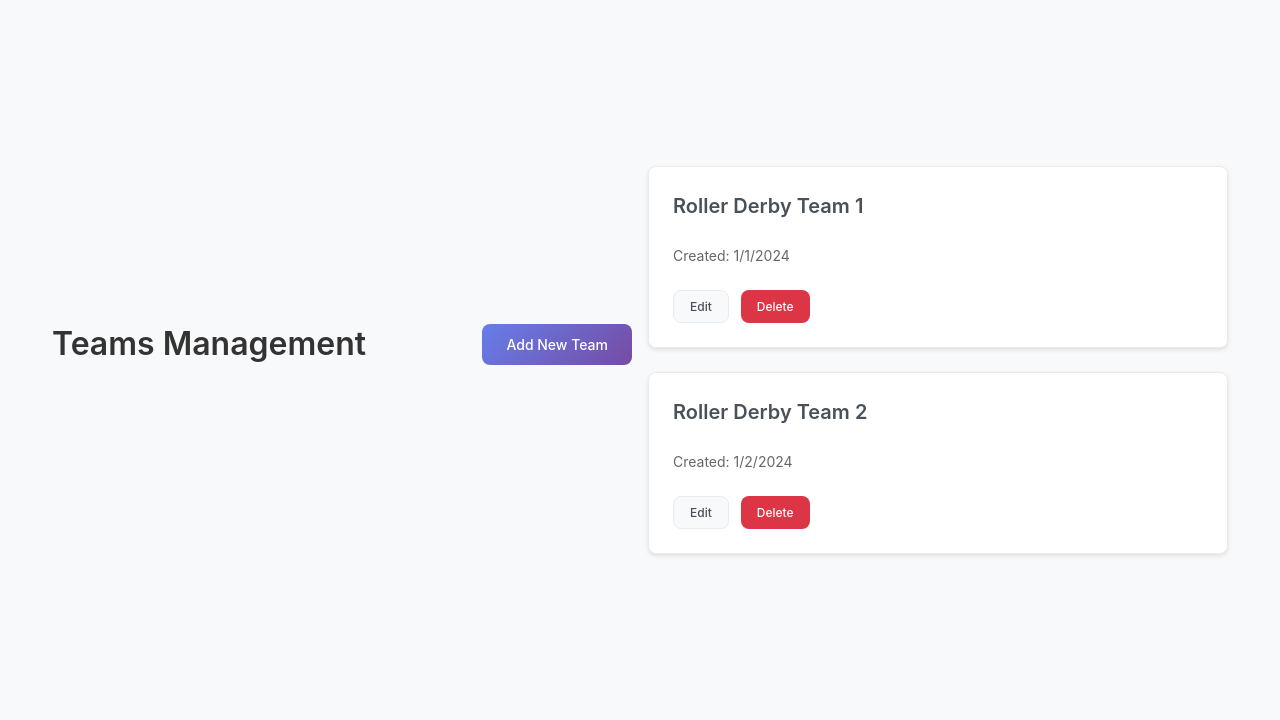
Scenario: Teams Component › shows add team form when button is clicked
What coordinates should you click on to do the following:
click the button "Add New Team"
I would click on:
 (557, 344)
Its box is [482,324,632,364].
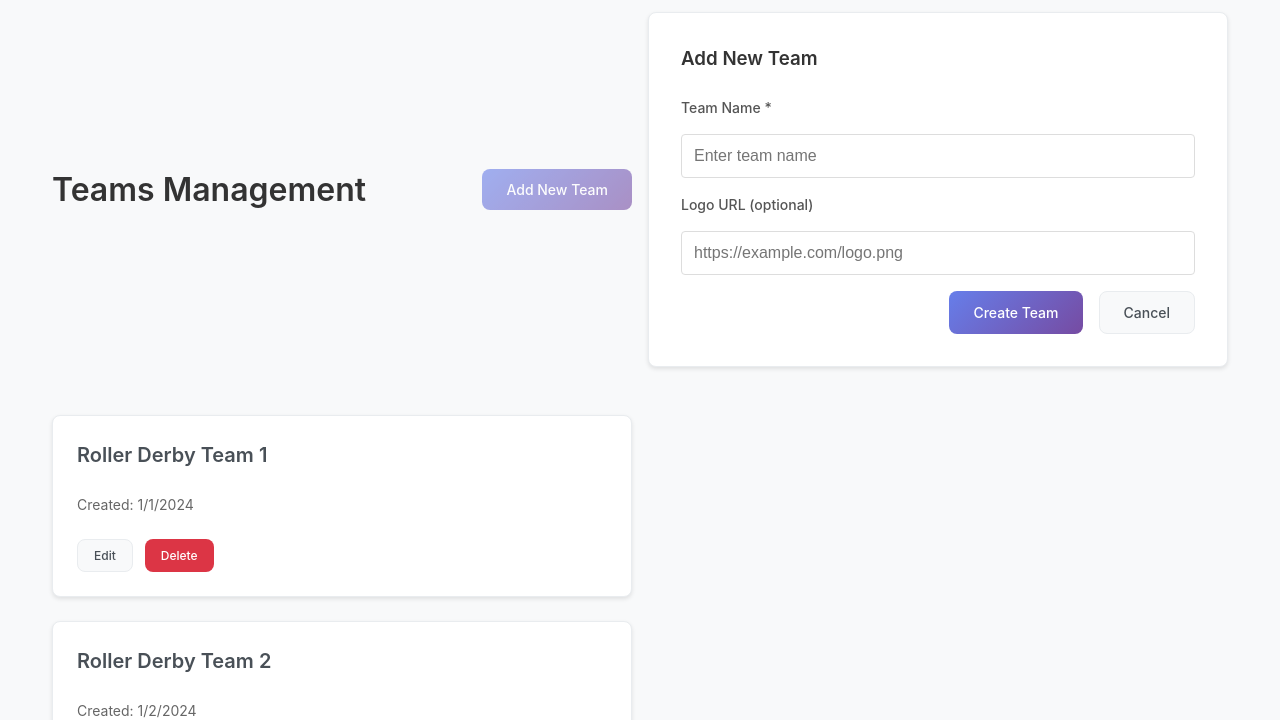
Now the field with placeholder "Enter team name" is shown, box [681,134,1195,178]
Now the button "Create Team" is shown, box [949,291,1082,334]
Now the button "Cancel" is shown, box [1098,291,1195,334]
